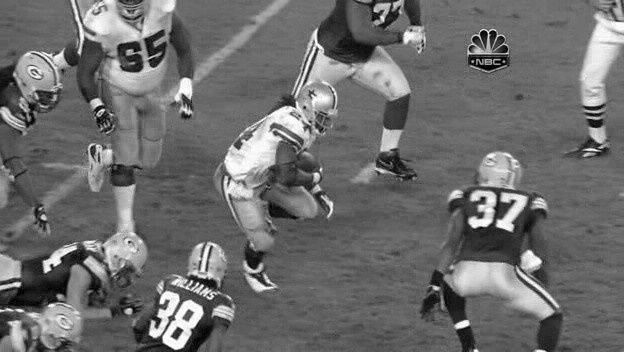person: (298, 82, 334, 134), (297, 82, 333, 134), (299, 82, 335, 134), (298, 81, 334, 133), (298, 83, 334, 135)
target_negative: (49, 106, 440, 322), (390, 206, 592, 340), (119, 9, 198, 251), (34, 210, 412, 251), (141, 148, 271, 258), (218, 128, 267, 338)
